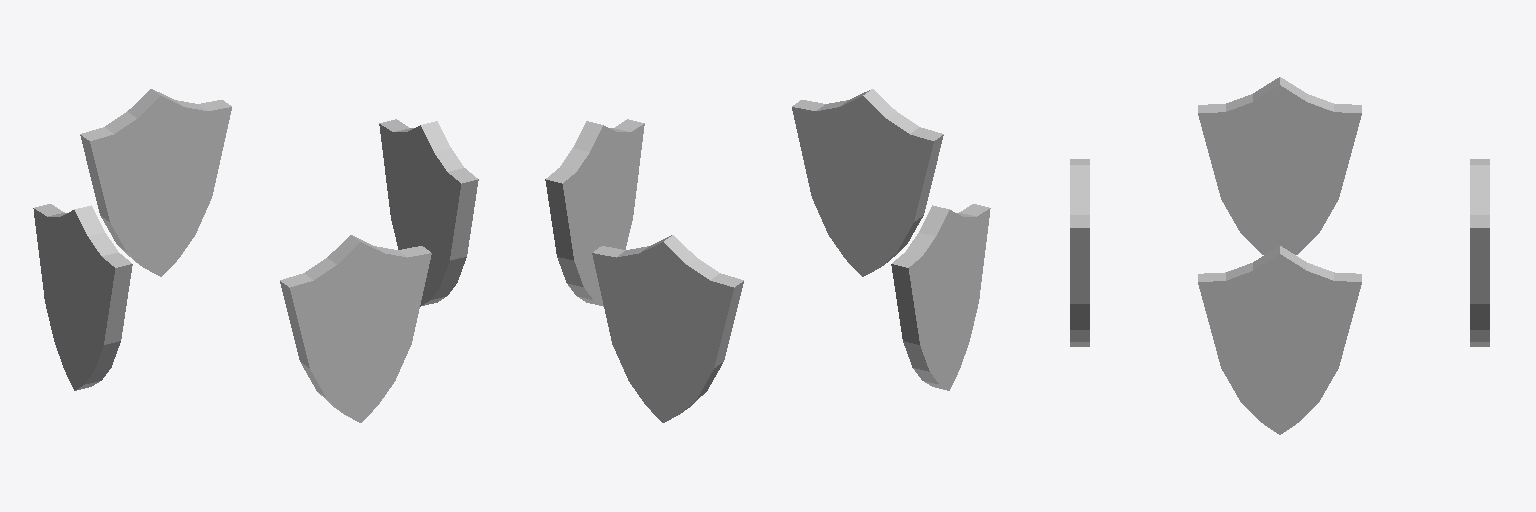
The model's file is PlayerShieldOBJ.obj.
The picture shows the model from 3 angles: view 1: azimuth 30°, elevation 25°; view 2: azimuth 150°, elevation 25°; view 3: azimuth 270°, elevation 25°; orthographic projection.
Parts seen in each view (by area): view 1: PowerUP_Shield.004_Cube.000, PowerUP_Shield.002_Cube.000, PowerUP_Shield.000_Cube.000, PowerUP_Shield.003_Cube.000; view 2: PowerUP_Shield.002_Cube.000, PowerUP_Shield.004_Cube.000, PowerUP_Shield.000_Cube.000, PowerUP_Shield.003_Cube.000; view 3: PowerUP_Shield.003_Cube.000, PowerUP_Shield.000_Cube.000, PowerUP_Shield.004_Cube.000, PowerUP_Shield.002_Cube.000.
Boxes of the visible parts, <box> form: PowerUP_Shield.004_Cube.000: <box>80,89,231,276</box>; PowerUP_Shield.002_Cube.000: <box>280,235,431,422</box>; PowerUP_Shield.000_Cube.000: <box>33,204,132,390</box>; PowerUP_Shield.003_Cube.000: <box>379,119,478,306</box>; PowerUP_Shield.002_Cube.000: <box>792,89,943,276</box>; PowerUP_Shield.004_Cube.000: <box>592,235,743,422</box>; PowerUP_Shield.000_Cube.000: <box>891,204,990,390</box>; PowerUP_Shield.003_Cube.000: <box>545,119,644,306</box>; PowerUP_Shield.003_Cube.000: <box>1198,246,1361,434</box>; PowerUP_Shield.000_Cube.000: <box>1198,77,1361,254</box>; PowerUP_Shield.004_Cube.000: <box>1470,159,1489,346</box>; PowerUP_Shield.002_Cube.000: <box>1070,159,1089,346</box>.
Bounding box in the file's own units: 4.2 × 2.01 × 4.2.